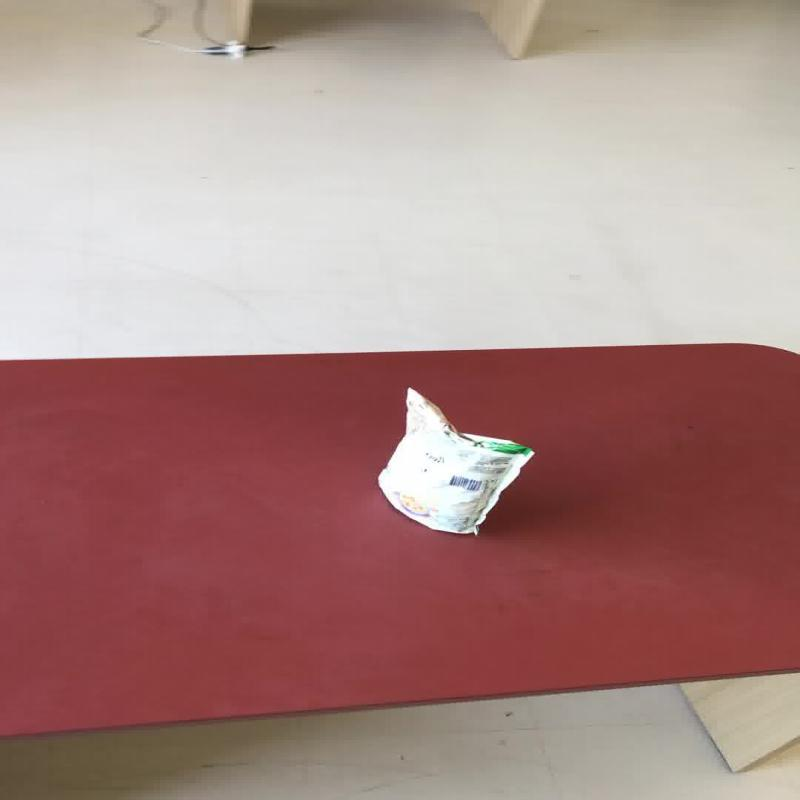corn flakes: (374, 386, 534, 536)
